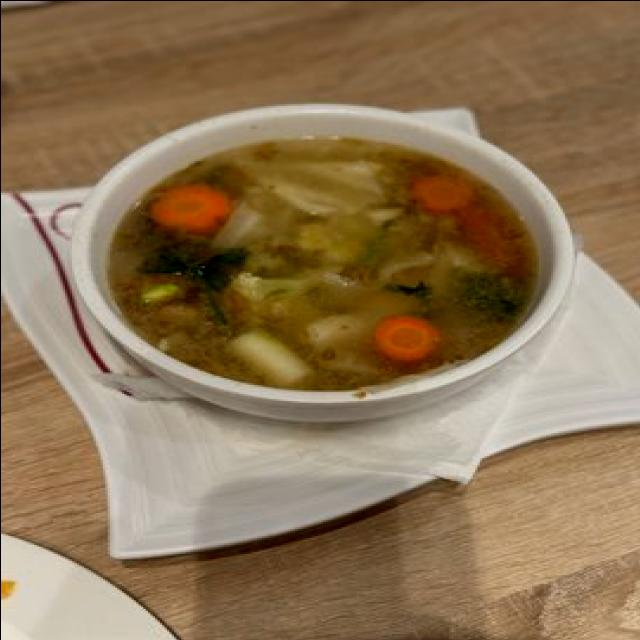sop: (95, 137, 540, 395)
